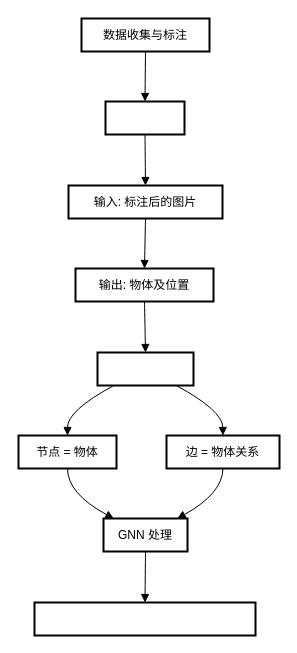
Image size: 297x653. Some labels were removed from this diagram. The shapes that lost their labels are listed below. From the top down, each one's box as (x1, y1, x2, y2) in pixels, then its label:
(104, 100, 185, 135): 目标检测
(96, 351, 194, 386): 构建图结构
(33, 601, 256, 636): 输出: 全局特征向量 H_global
